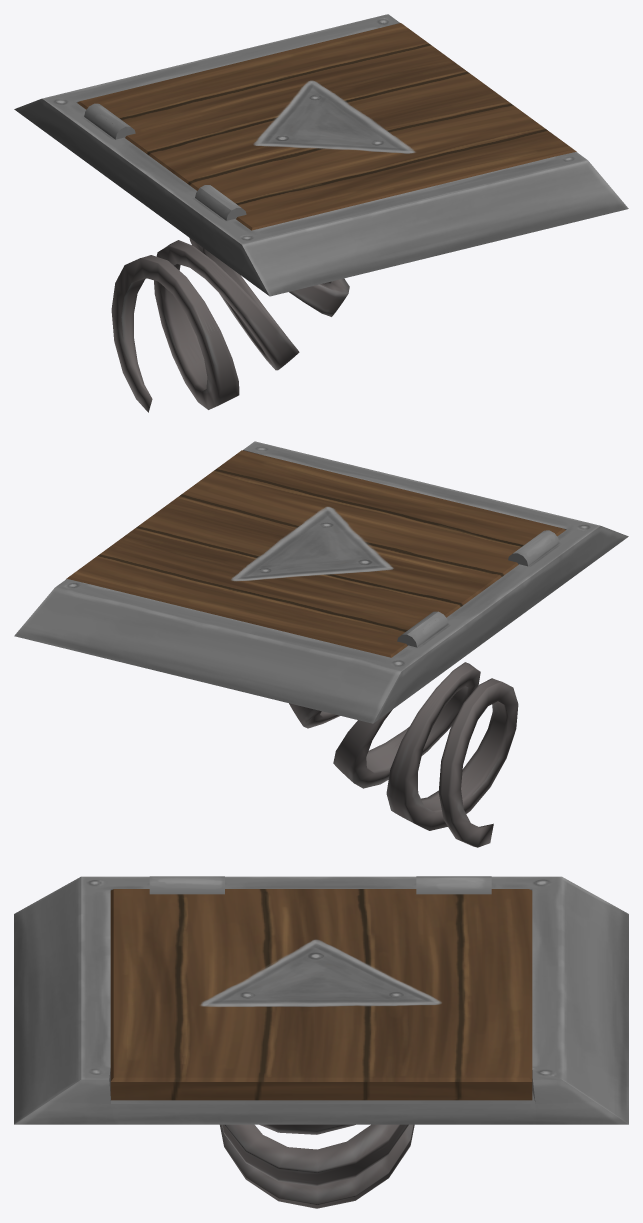
File: spring_trap.fbx
3 renders of one model, top to bottom at view 1: azimuth 30°, elevation 25°; view 2: azimuth 150°, elevation 25°; view 3: azimuth 270°, elevation 25°, orthographic. The views are drawn at different scales.
Parts seen in each view (by area): view 1: platform, frame; view 2: platform, frame; view 3: platform, frame.
Boxes of the visible parts, bbox=[...] form: platform: bbox=[77, 23, 576, 412]; frame: bbox=[14, 14, 628, 296]; platform: bbox=[66, 450, 565, 847]; frame: bbox=[14, 441, 628, 723]; platform: bbox=[110, 889, 532, 1208]; frame: bbox=[14, 876, 628, 1124].
Bounding box in the file's own units: 197 × 134 × 243.
1 material, 1 textured.
